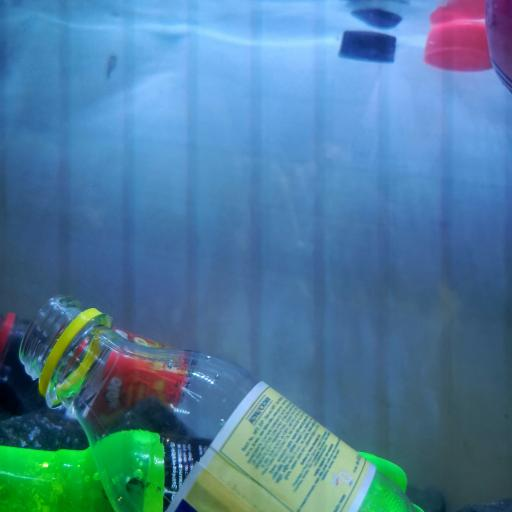bottle_cap: (424, 22, 491, 74), (339, 30, 398, 64)
plastic_bottle: (18, 293, 420, 512), (1, 430, 424, 512), (0, 306, 244, 428), (486, 2, 512, 96)
